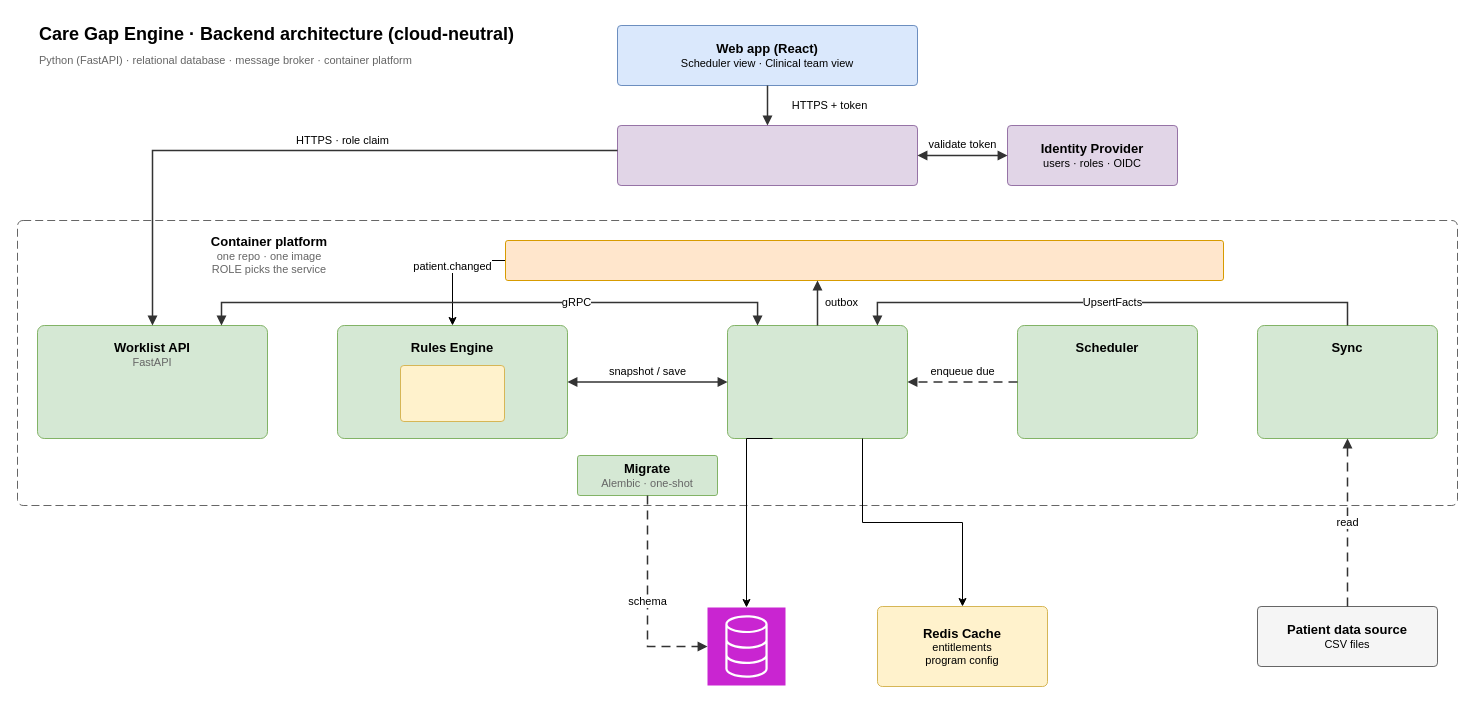
Image size: 1475x723. Some labels were removed from this diagram. The box of each missing label's shape, as (x1, y1, x2, y2) in pixels:
API Gateway TLS · rate limit · JWT validation: (616, 124, 918, 186)
Data Service: (726, 324, 908, 438)
Kafka Message Broker: (504, 240, 1224, 280)
MySQL: (706, 606, 786, 686)
Program Registry: (400, 364, 504, 422)
